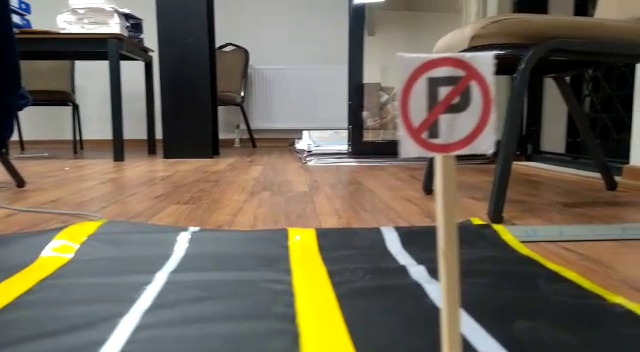park_yapilmaz: (397, 54, 494, 153)
